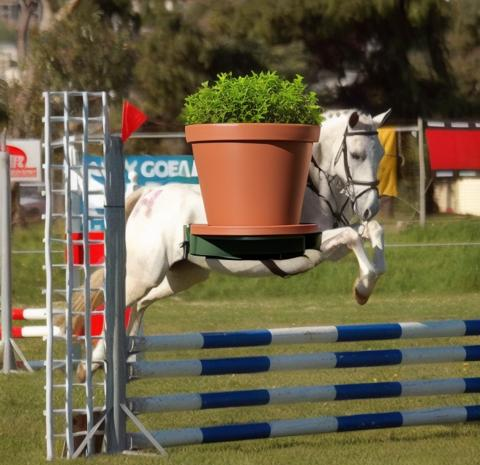horse: (56, 105, 400, 383)
pottedplant: (182, 69, 322, 260)
